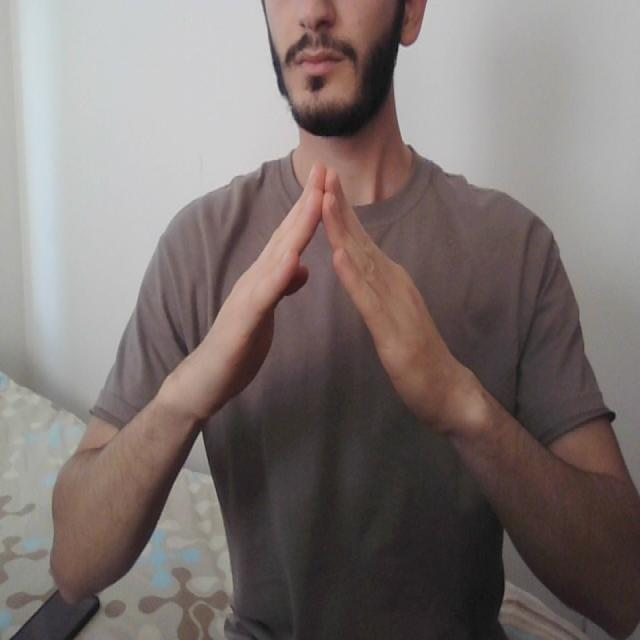Ev: (177, 147, 479, 451)
